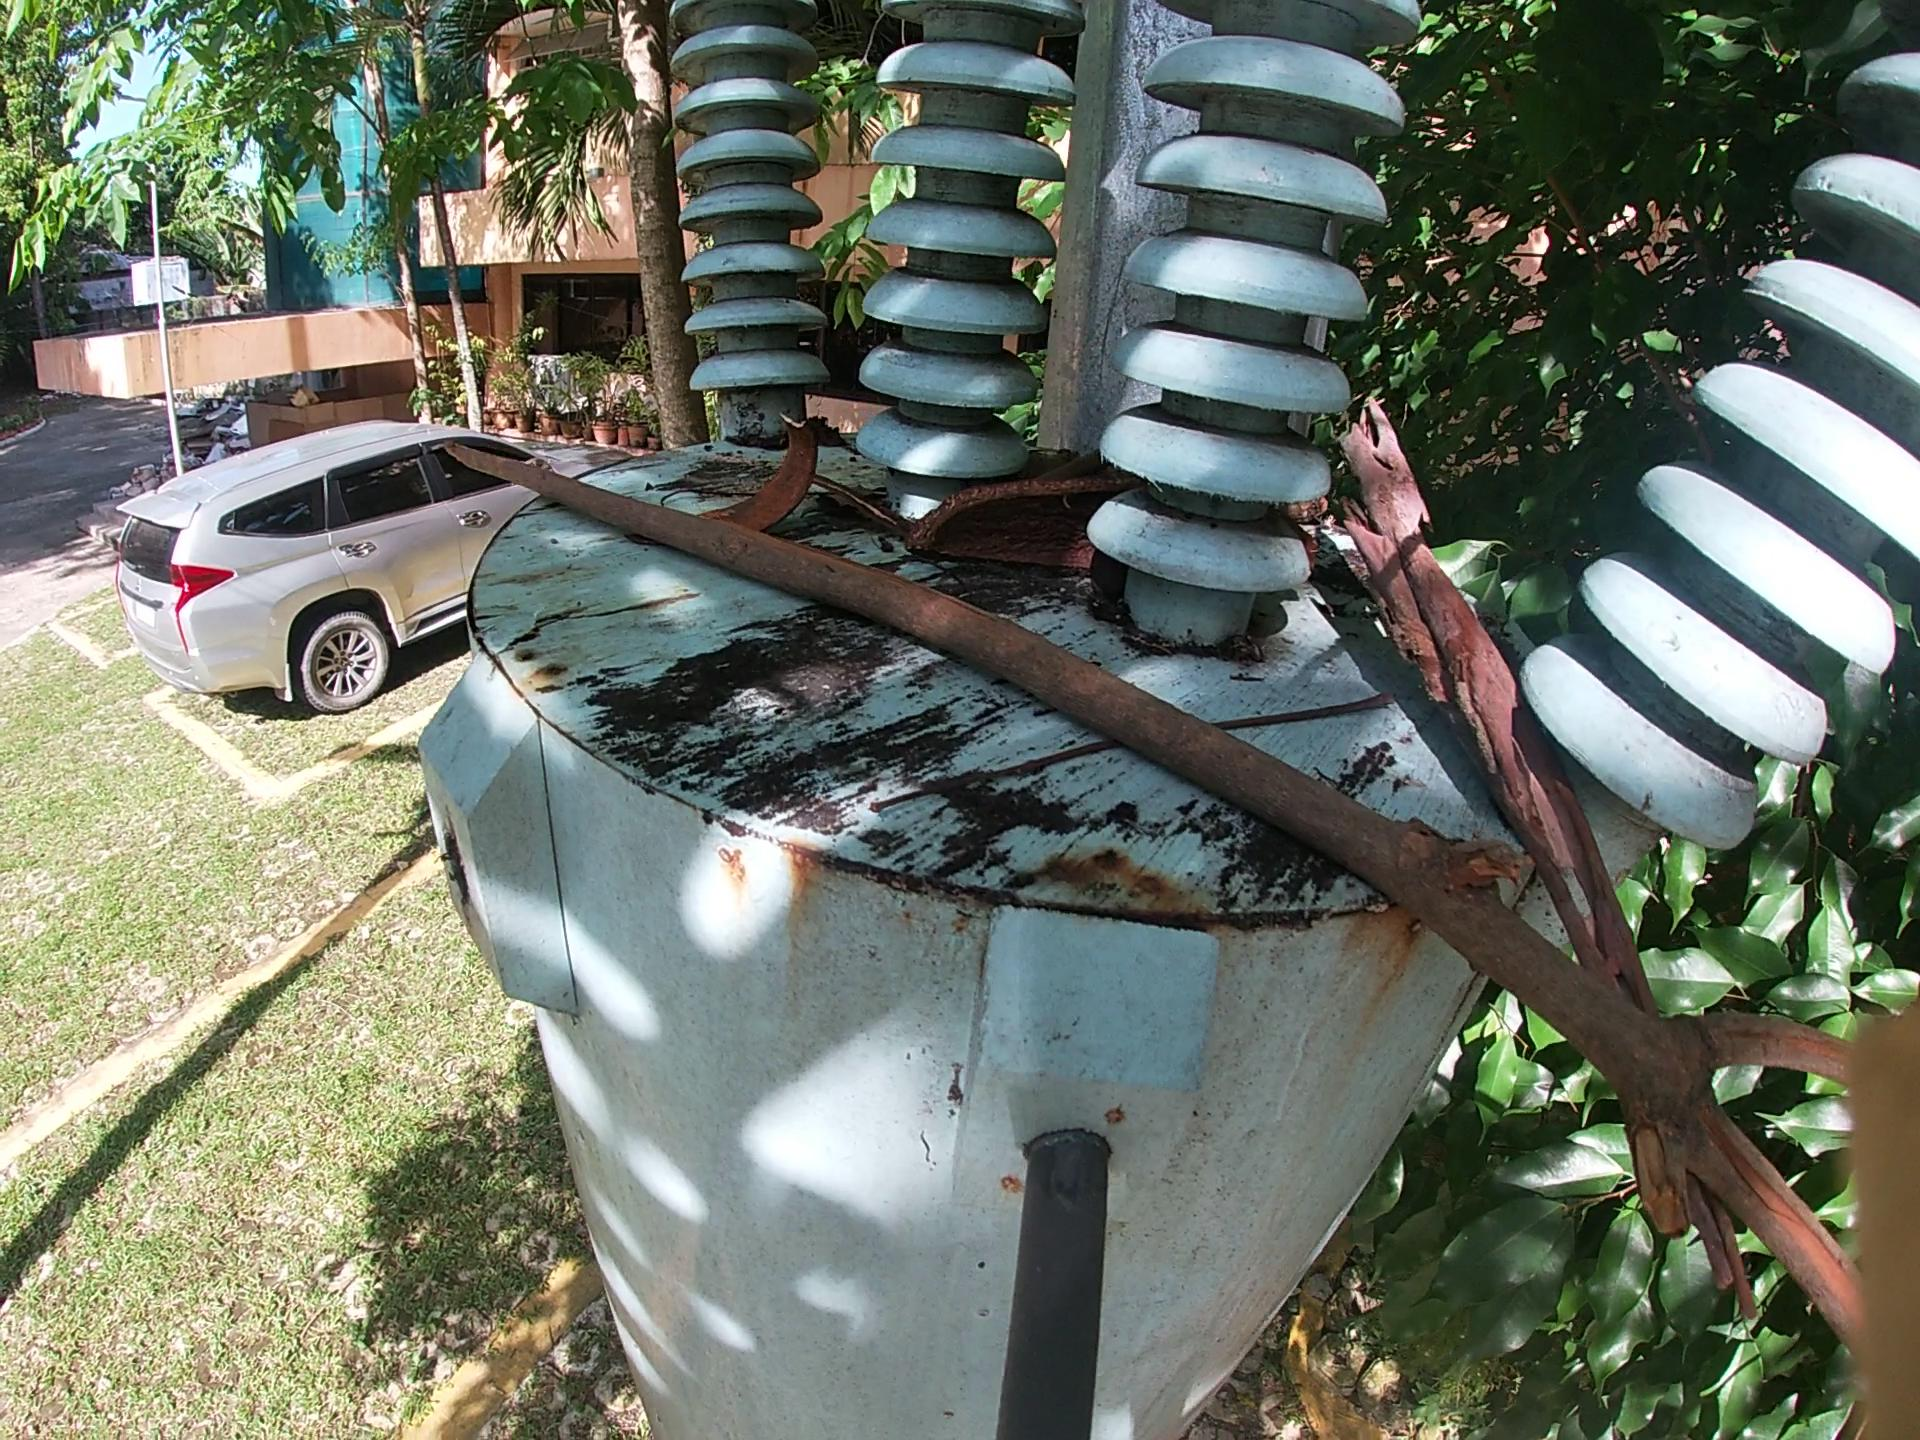mahogany fruit: (897, 479, 1132, 584), (714, 402, 850, 520)
tree branch: (435, 430, 1826, 1319), (1335, 401, 1766, 1298), (866, 700, 1404, 830), (816, 476, 900, 540), (655, 472, 770, 510), (1027, 451, 1108, 483), (1281, 496, 1336, 540)
